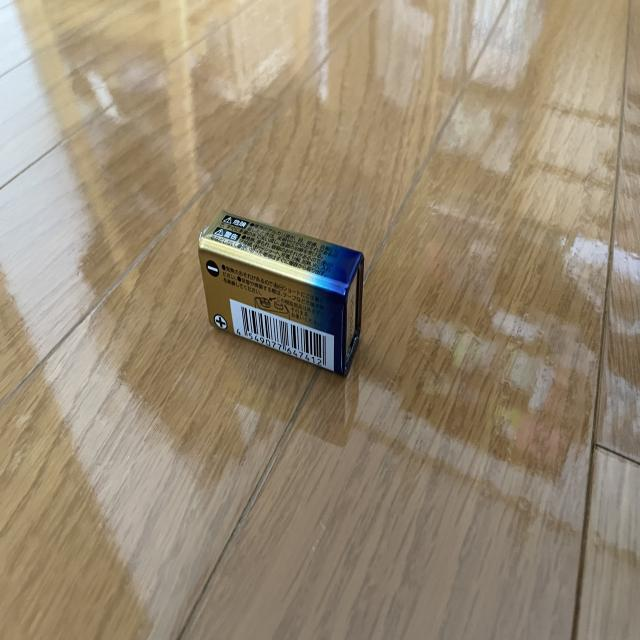9V: (196, 207, 364, 381)
